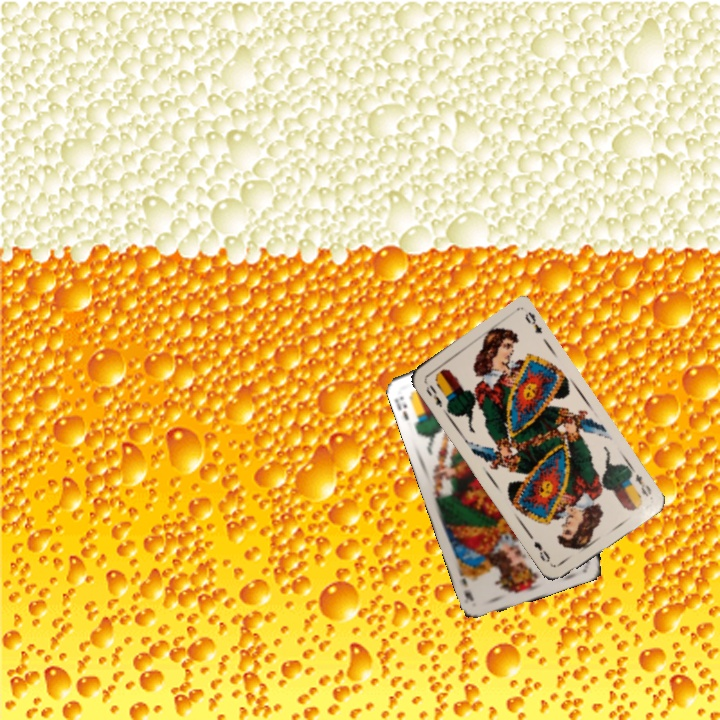EK: (392, 392, 412, 422)
EO: (422, 380, 445, 410), (631, 470, 654, 499)
